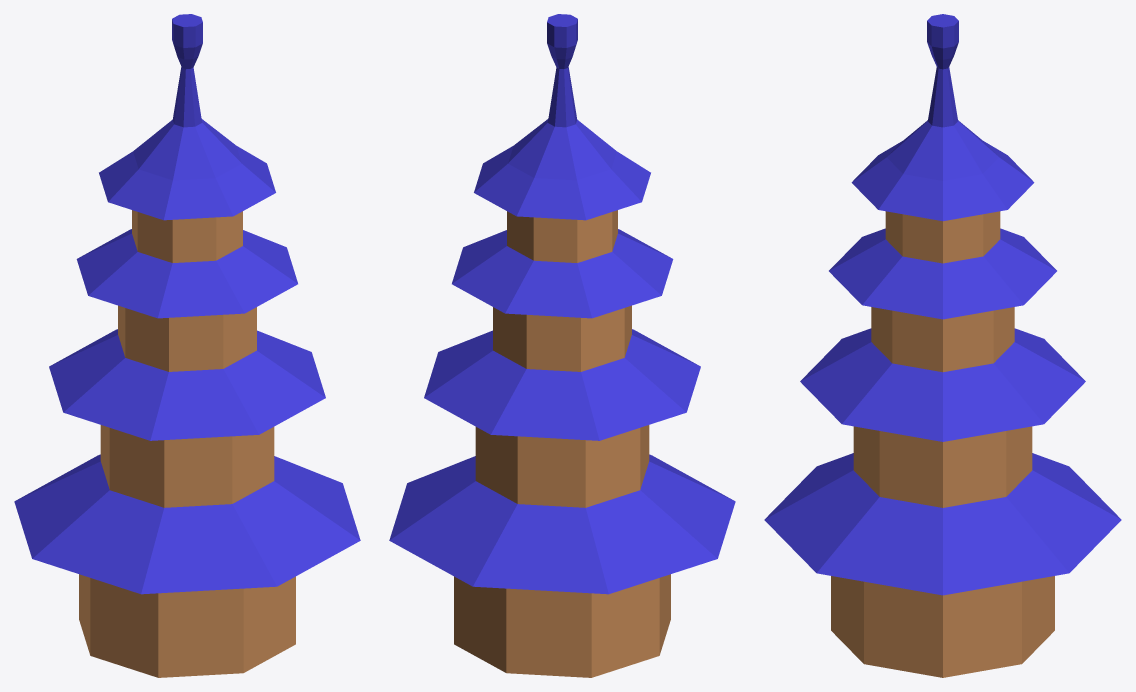
File: Tower01.obj
3 views of the same model, side by side, from view 1: azimuth 30°, elevation 25°; view 2: azimuth 150°, elevation 25°; view 3: azimuth 270°, elevation 25° (orthographic).
Visible parts, largest first — view 1: Tower01; view 2: Tower01; view 3: Tower01.
Part boxes in pixels (x1=…): Tower01: x1=14, y1=14, x2=360, y2=677; Tower01: x1=389, y1=14, x2=735, y2=677; Tower01: x1=764, y1=14, x2=1121, y2=677.
Bounding box in the file's own units: 3.2 × 6.02 × 3.2.
Materials: 1 (1 with a texture image).
